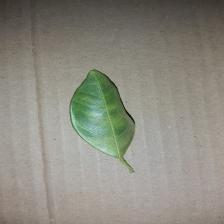greening: (67, 68, 140, 174)
